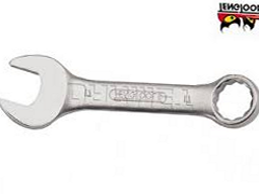wrench: (2, 47, 259, 134)
